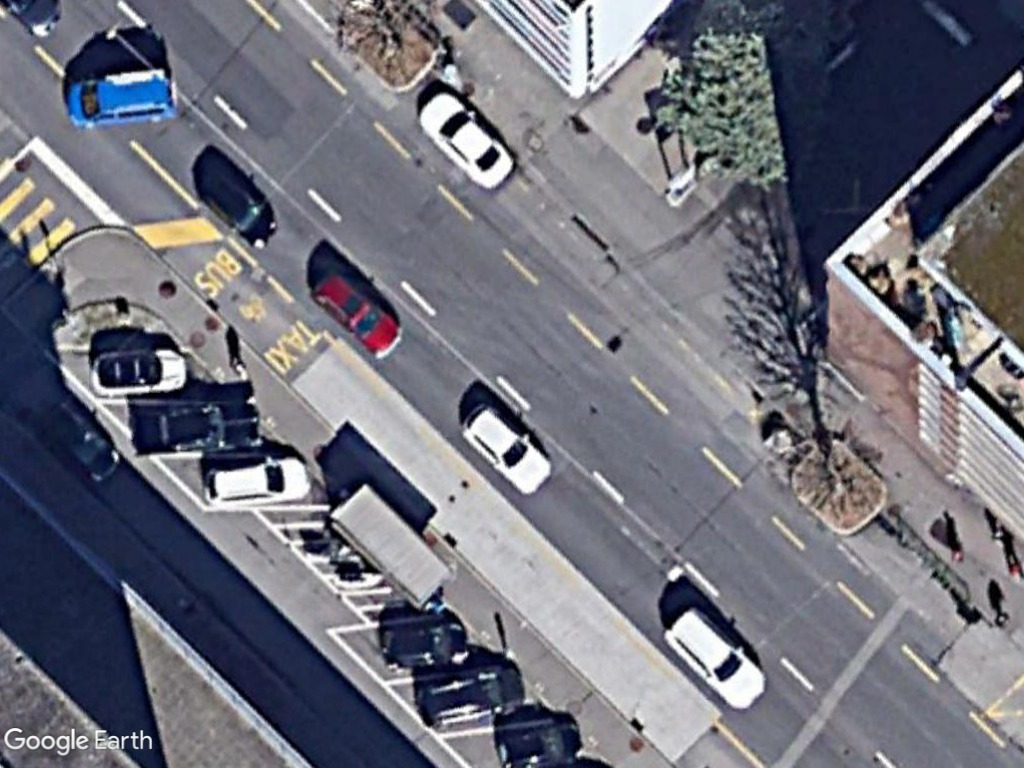car: (662, 599, 766, 715), (416, 88, 518, 191), (463, 398, 555, 497), (310, 270, 410, 361), (414, 661, 527, 728), (193, 166, 279, 254), (200, 454, 312, 513), (87, 343, 189, 402), (379, 612, 475, 671)
van: (60, 63, 186, 134)
